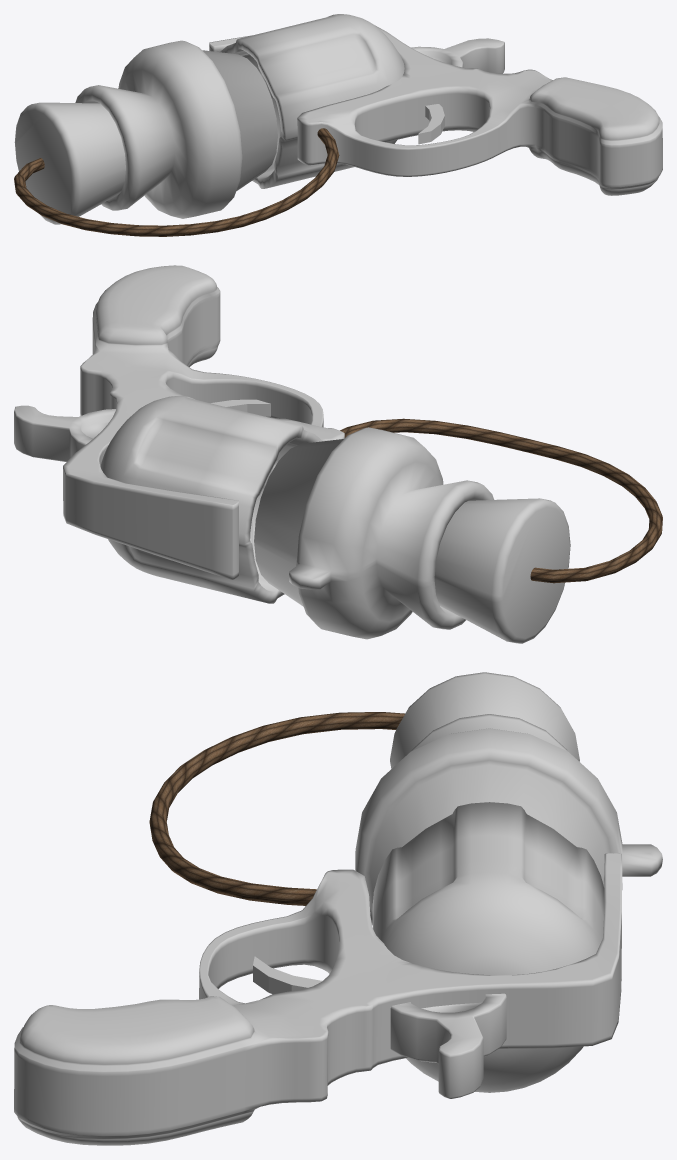
The model's file is cork gun.fbx.
3 views of the same model, one above another, from view 1: azimuth 30°, elevation 25°; view 2: azimuth 150°, elevation 25°; view 3: azimuth 270°, elevation 25° (orthographic). The views are drawn at different scales.
Parts seen in each view (by area): view 1: Circle.001, Cylinder.001, Cylinder, Cylinder.002, Cylinder.003; view 2: Circle.001, Cylinder.001, Cylinder, Cylinder.002, Cylinder.003; view 3: Circle.001, Cylinder, Cylinder.001, Cylinder.003, Cylinder.002.
Boxes of the visible parts, left/top/right/bottom form: Circle.001: left=209, top=25, right=662, bottom=195; Cylinder.001: left=75, top=40, right=277, bottom=218; Cylinder: left=216, top=14, right=404, bottom=188; Cylinder.002: left=14, top=102, right=125, bottom=224; Cylinder.003: left=14, top=128, right=339, bottom=236; Circle.001: left=14, top=265, right=344, bottom=579; Cylinder.001: left=254, top=427, right=494, bottom=639; Cylinder: left=100, top=396, right=326, bottom=603; Cylinder.002: left=434, top=498, right=570, bottom=643; Cylinder.003: left=340, top=418, right=662, bottom=583; Circle.001: left=14, top=853, right=622, bottom=1145; Cylinder: left=372, top=802, right=604, bottom=1092; Cylinder.001: left=355, top=714, right=662, bottom=925; Cylinder.003: left=149, top=712, right=404, bottom=905; Cylinder.002: left=390, top=672, right=579, bottom=768.
Size of the model in its own units: 735 by 210 by 507.
